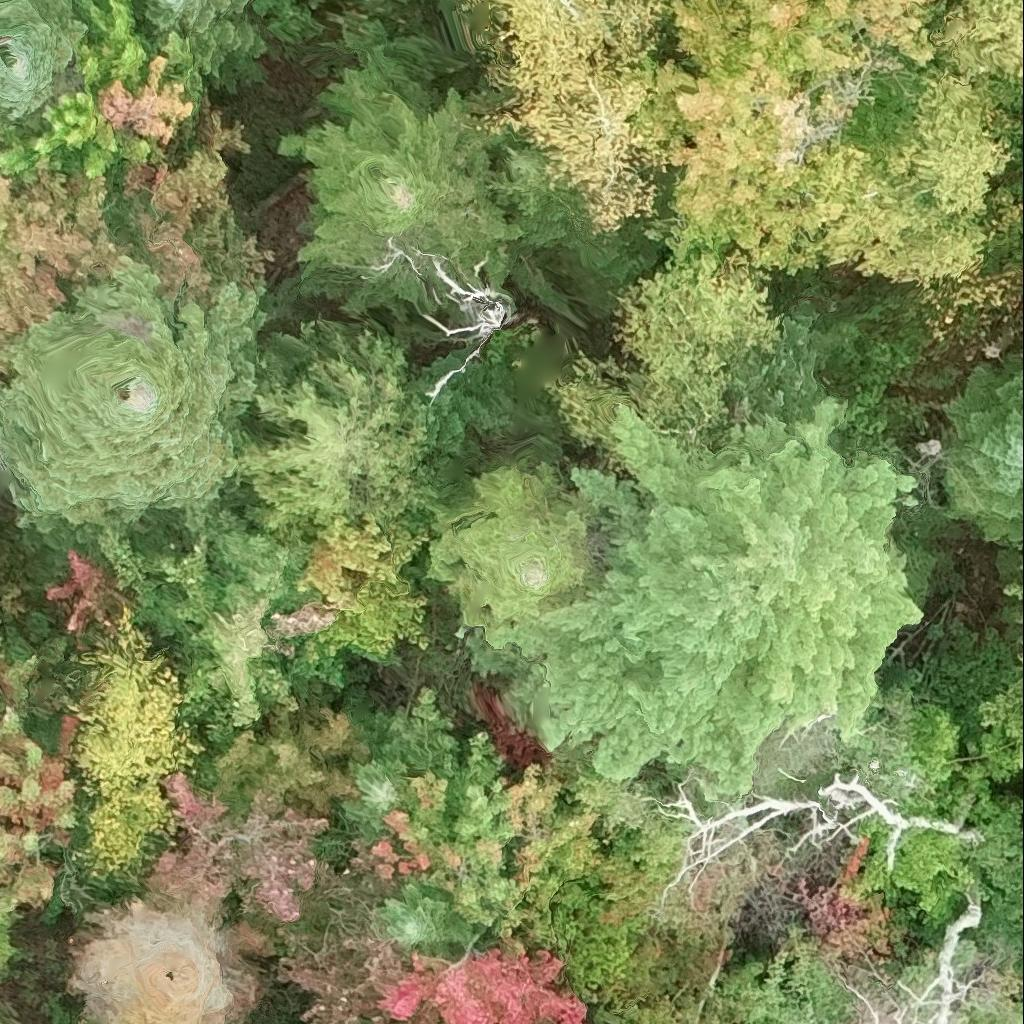crown: (467, 305, 939, 801), (625, 0, 881, 253), (743, 64, 1020, 292), (659, 776, 964, 906), (72, 604, 205, 880), (853, 691, 1004, 913), (723, 837, 895, 1023), (146, 775, 330, 922), (278, 938, 586, 1023), (0, 628, 85, 919), (848, 900, 1005, 1023), (734, 0, 955, 68), (599, 928, 748, 1023), (944, 368, 1023, 544), (928, 0, 1023, 121), (964, 798, 1023, 969), (974, 581, 1023, 781), (376, 877, 473, 969), (1016, 1013, 1023, 1023), (358, 1018, 371, 1023), (385, 1019, 400, 1023), (443, 1021, 449, 1023)
